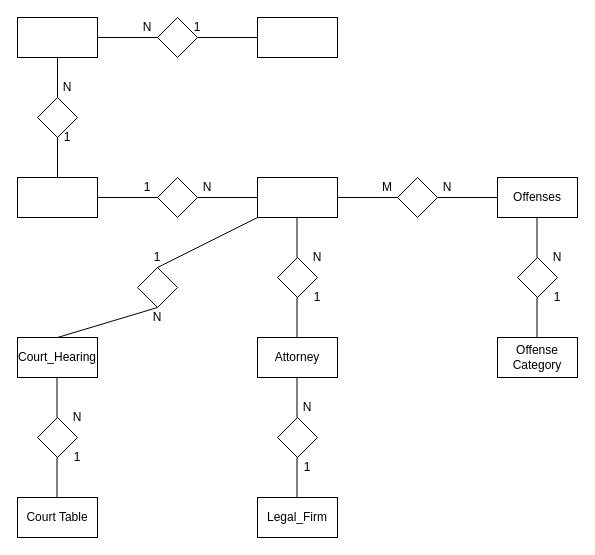
The diagram is 595 pixels wide and 555 high, and some of its shapes have lost their labels. Here are the shapes that lost their labels. From the top down, the centre of each, then its label:
At [57,37]: "Incarceration Table".
At [297,37]: "Prison".
At [57,197]: "Prisoner".
At [297,197]: "Case".
